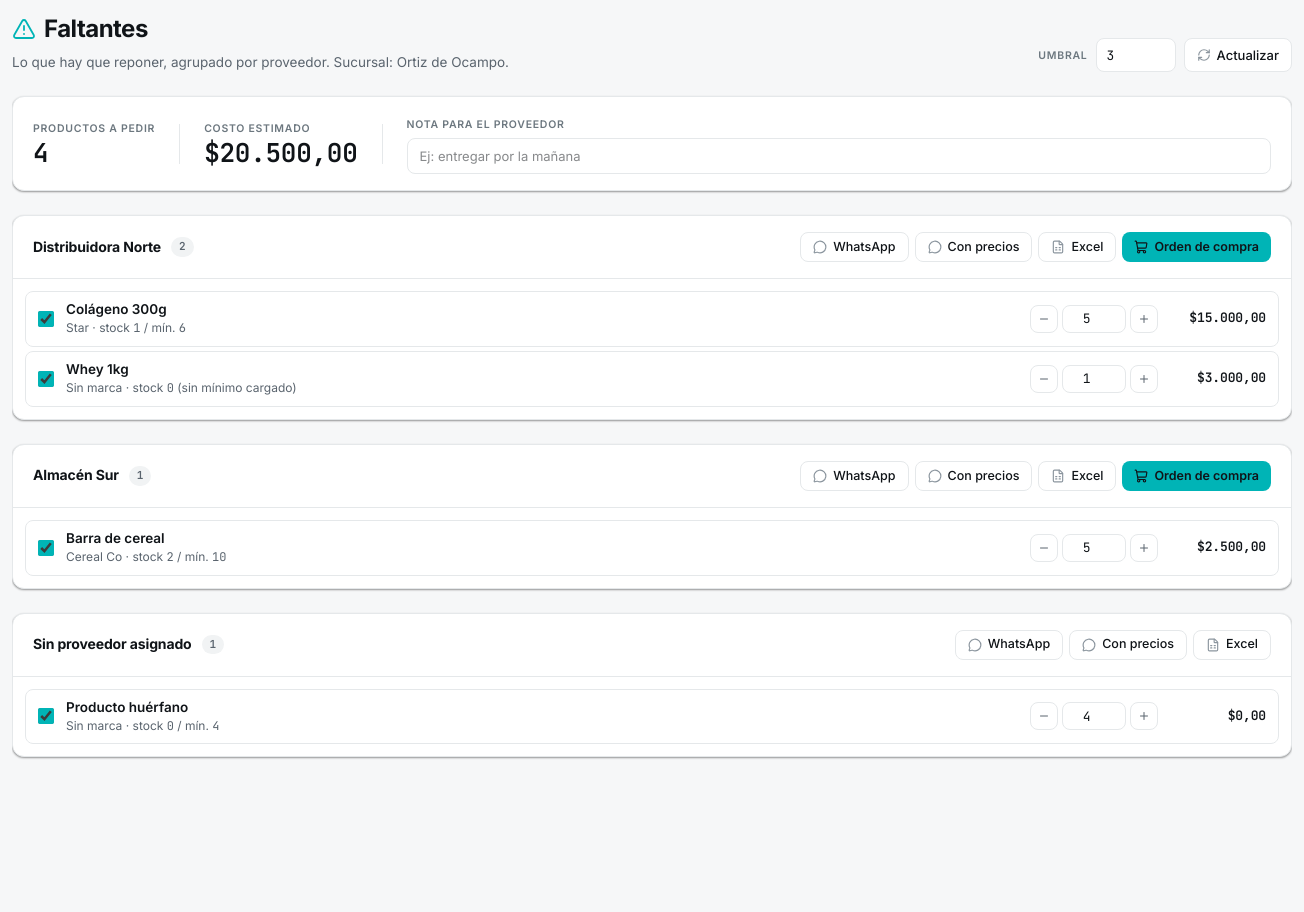
Test: Los totales cuentan lo que de verdad se va a pedir › poner una cantidad en cero también lo saca
The image size is (1304, 912).
Replace the text in the number field named "Cantidad de Barra de cereal" with "0": (1094, 548) [1062,534,1126,562]
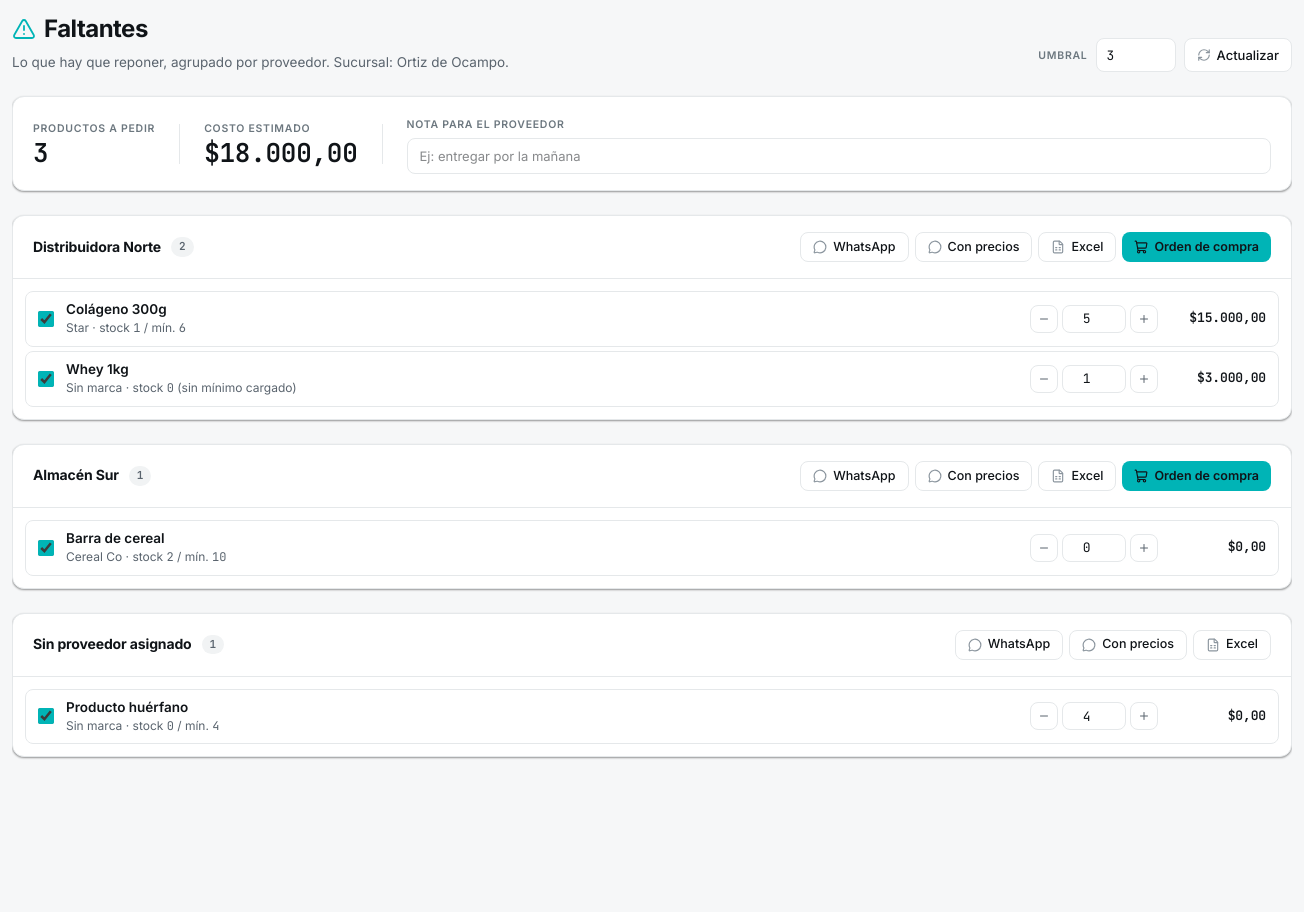
Expected: the text with class "num" reads "3", [33,135,48,170]
